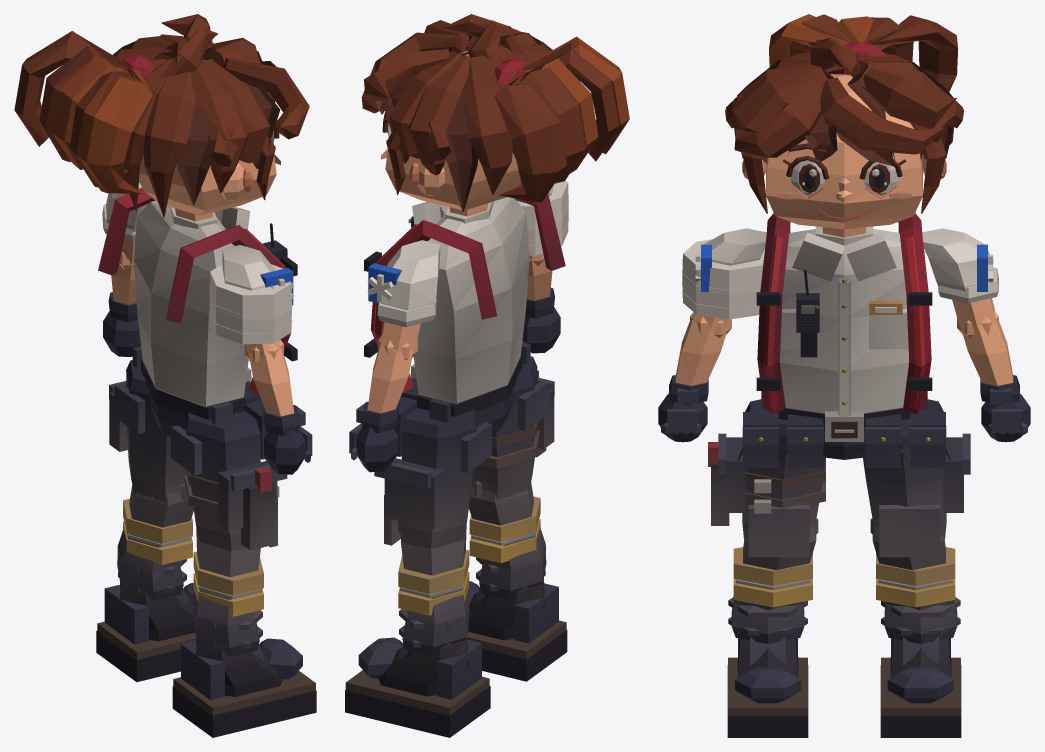
3 views of the same model, side by side, from view 1: azimuth 30°, elevation 25°; view 2: azimuth 150°, elevation 25°; view 3: azimuth 270°, elevation 25° (orthographic).
Parts seen in each view (by area): view 1: head_pal_picketWhite, torso_pal_picketWhite, legR_pal_picketWhite, footR_pal_picketWhite, footL_pal_picketWhite, shinR_pal_picketWhite, armR_pal_picketWhite, shinL_pal_picketWhite, legL_pal_picketWhite, head_pal_skinWarm, hip_pal_picketWhite, foreArmR_pal_skinWarm (+6 smaller); view 2: head_pal_picketWhite, torso_pal_picketWhite, legL_pal_picketWhite, footL_pal_picketWhite, footR_pal_picketWhite, shinL_pal_picketWhite, shinR_pal_picketWhite, legR_pal_picketWhite, armL_pal_picketWhite, head_pal_skinWarm, hip_pal_picketWhite, foreArmL_pal_skinWarm (+7 smaller); view 3: torso_pal_picketWhite, head_pal_picketWhite, hip_pal_picketWhite, legR_pal_picketWhite, head_pal_skinWarm, legL_pal_picketWhite, footL_pal_picketWhite, footR_pal_picketWhite, shinL_pal_picketWhite, shinR_pal_picketWhite, armR_pal_picketWhite, armL_pal_picketWhite (+8 smaller).
Part boxes in pixels (x1=…): head_pal_picketWhite: x1=14, y1=14, x2=309, y2=217; torso_pal_picketWhite: x1=98, y1=187, x2=297, y2=406; legR_pal_picketWhite: x1=171, y1=411, x2=287, y2=551; footR_pal_picketWhite: x1=172, y1=638, x2=316, y2=737; footL_pal_picketWhite: x1=96, y1=583, x2=195, y2=681; shinR_pal_picketWhite: x1=193, y1=528, x2=263, y2=656; armR_pal_picketWhite: x1=209, y1=245, x2=294, y2=344; shinL_pal_picketWhite: x1=117, y1=484, x2=193, y2=600; legL_pal_picketWhite: x1=109, y1=360, x2=186, y2=502; head_pal_skinWarm: x1=139, y1=60, x2=280, y2=221; hip_pal_picketWhite: x1=132, y1=346, x2=267, y2=460; foreArmR_pal_skinWarm: x1=244, y1=339, x2=294, y2=416; head_pal_picketWhite: x1=361, y1=14, x2=629, y2=212; torso_pal_picketWhite: x1=364, y1=182, x2=565, y2=403; legL_pal_picketWhite: x1=374, y1=408, x2=491, y2=549; footL_pal_picketWhite: x1=345, y1=635, x2=490, y2=737; footR_pal_picketWhite: x1=467, y1=579, x2=567, y2=681; shinL_pal_picketWhite: x1=398, y1=521, x2=469, y2=655; shinR_pal_picketWhite: x1=469, y1=481, x2=546, y2=599; legR_pal_picketWhite: x1=472, y1=356, x2=554, y2=499; armL_pal_picketWhite: x1=367, y1=240, x2=440, y2=327; head_pal_skinWarm: x1=381, y1=51, x2=520, y2=216; hip_pal_picketWhite: x1=394, y1=342, x2=530, y2=457; foreArmL_pal_skinWarm: x1=367, y1=335, x2=417, y2=413; torso_pal_picketWhite: x1=756, y1=213, x2=932, y2=416; head_pal_picketWhite: x1=725, y1=14, x2=963, y2=220; hip_pal_picketWhite: x1=737, y1=391, x2=951, y2=467; legR_pal_picketWhite: x1=708, y1=399, x2=825, y2=557; head_pal_skinWarm: x1=742, y1=74, x2=946, y2=237; legL_pal_picketWhite: x1=863, y1=399, x2=970, y2=557; footL_pal_picketWhite: x1=880, y1=636, x2=961, y2=737; footR_pal_picketWhite: x1=727, y1=636, x2=808, y2=737; shinL_pal_picketWhite: x1=870, y1=518, x2=960, y2=643; shinR_pal_picketWhite: x1=728, y1=518, x2=818, y2=643; armR_pal_picketWhite: x1=682, y1=228, x2=766, y2=319; armL_pal_picketWhite: x1=922, y1=228, x2=998, y2=303.
Size of the model in its own units: 0.4887 by 1.44 by 0.7327.
